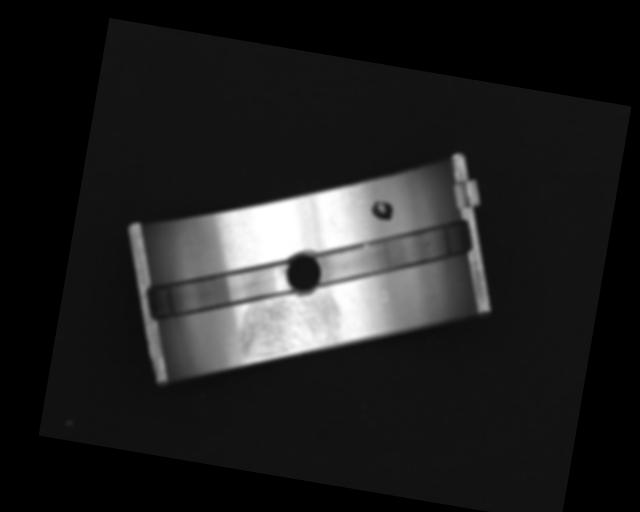blot: (368, 196, 396, 222)
bruise: (380, 288, 390, 303)
gap: (311, 201, 470, 308), (144, 244, 294, 339)
hole: (281, 248, 326, 297)
scratch: (234, 281, 343, 372)
